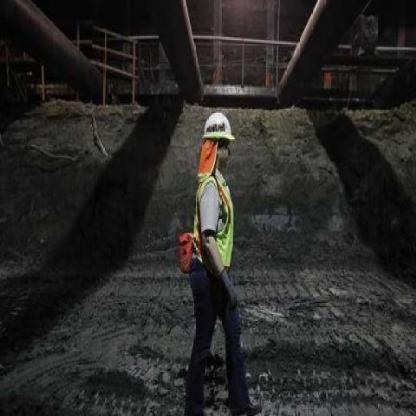helmet: (200, 112, 237, 140)
person: (190, 108, 247, 414)
vest: (196, 166, 236, 272)
